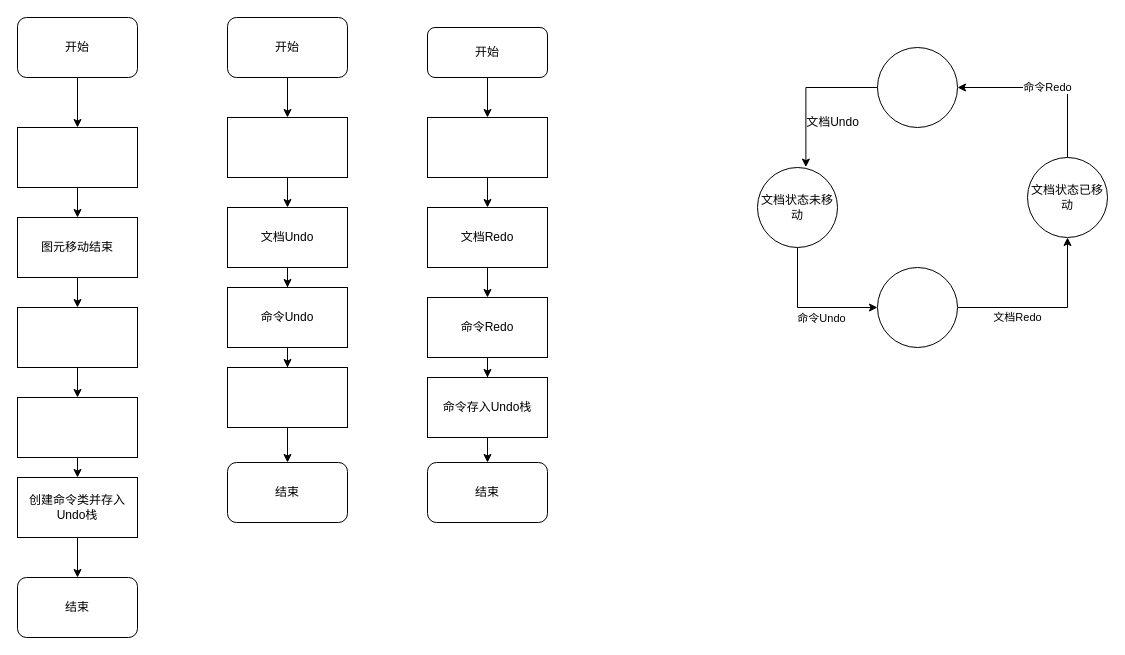
Some shapes in this 1125 by 655 pixel diagram are drawn without their labels. Here are the shapes that lost their labels. From the top down, the centre of each, then its label:
pixel 917 87: 图元容器已移动
pixel 77 157: 开启文档事务
pixel 287 147: Undo栈弹出栈顶命令
pixel 487 147: Redo栈弹出栈顶命令
pixel 917 307: 图元容器未移动
pixel 77 337: 更新外部容器数据和文档数据
pixel 287 397: 命令存入Redo栈
pixel 77 427: 提交文档事务
